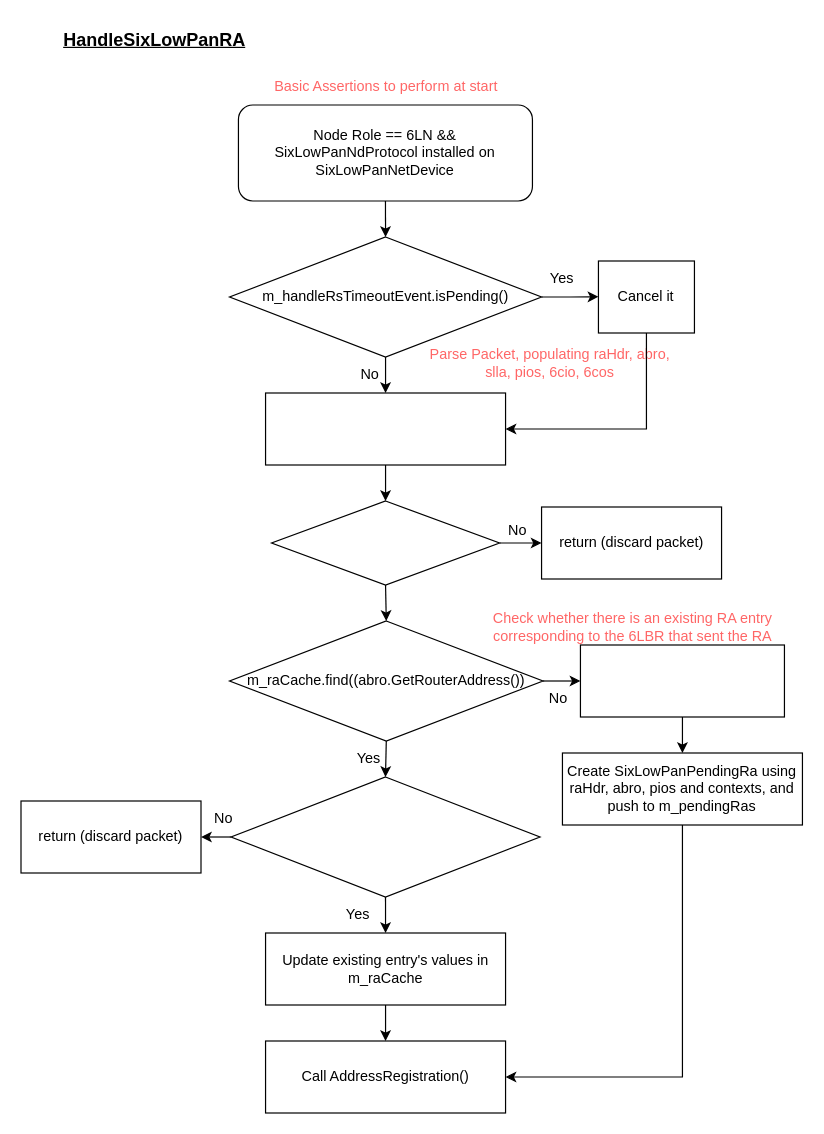
The diagram is 824 pixels wide and 1134 high, and some of its shapes have lost their labels. The shapes that lost their labels are listed below. From the top down, each one's box as (x1, y1, x2, y2) in pixels, then its label:
(264, 392, 506, 465): ParseAndValidateRaPacket
(270, 500, 500, 585): isValid
(579, 644, 784, 717): Construct and add RA entry to m_raCache
(230, 776, 540, 897): abro Version > existing RA's abro version
